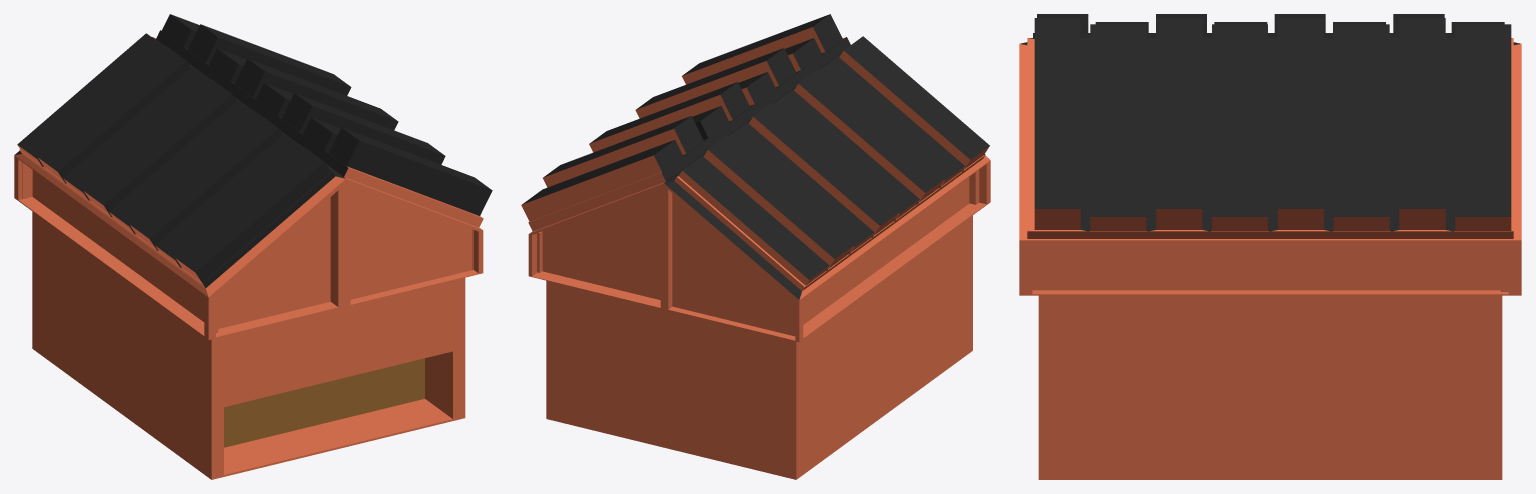
File: smallhouse1.fbx
3 views of the same model, side by side, from view 1: azimuth 30°, elevation 25°; view 2: azimuth 150°, elevation 25°; view 3: azimuth 270°, elevation 25° (orthographic). The views are drawn at different scales.
Visible parts, largest first — view 1: Cube; view 2: Cube; view 3: Cube.
Part boxes in pixels (box(x1,y1,x2,y2)): Cube: box(14, 14, 492, 479); Cube: box(521, 14, 990, 479); Cube: box(1019, 14, 1521, 479).
Bounding box in the file's own units: 273 × 268 × 310.
